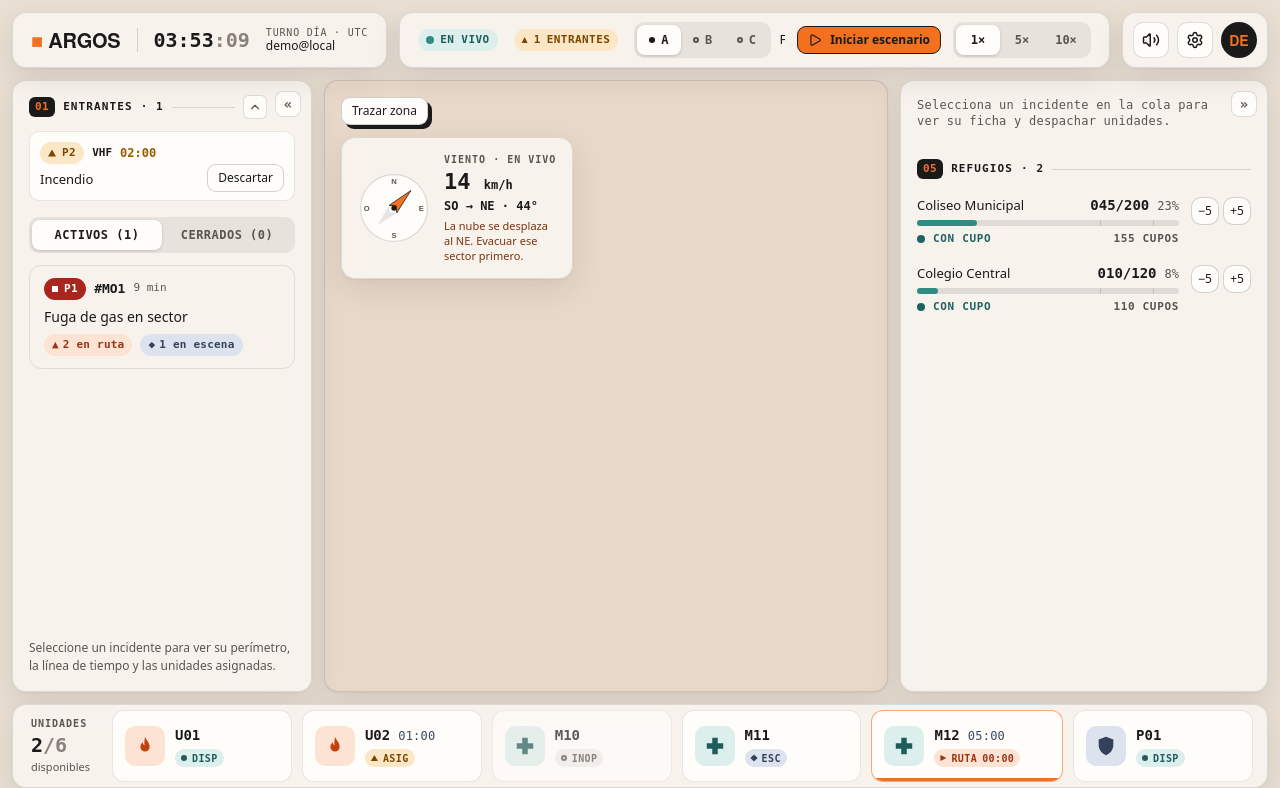
Test: App: tutorial guiado › desde Ajustes → Ayuda → «Ver tutorial» cierra los ajustes y empieza el recorrido
Expected: the header named "Barra de estado" is shown, [12,12,1268,68]
Click the button named "Ajustes" at {"x": 1195, "y": 40}, box [1177,22,1213,58]
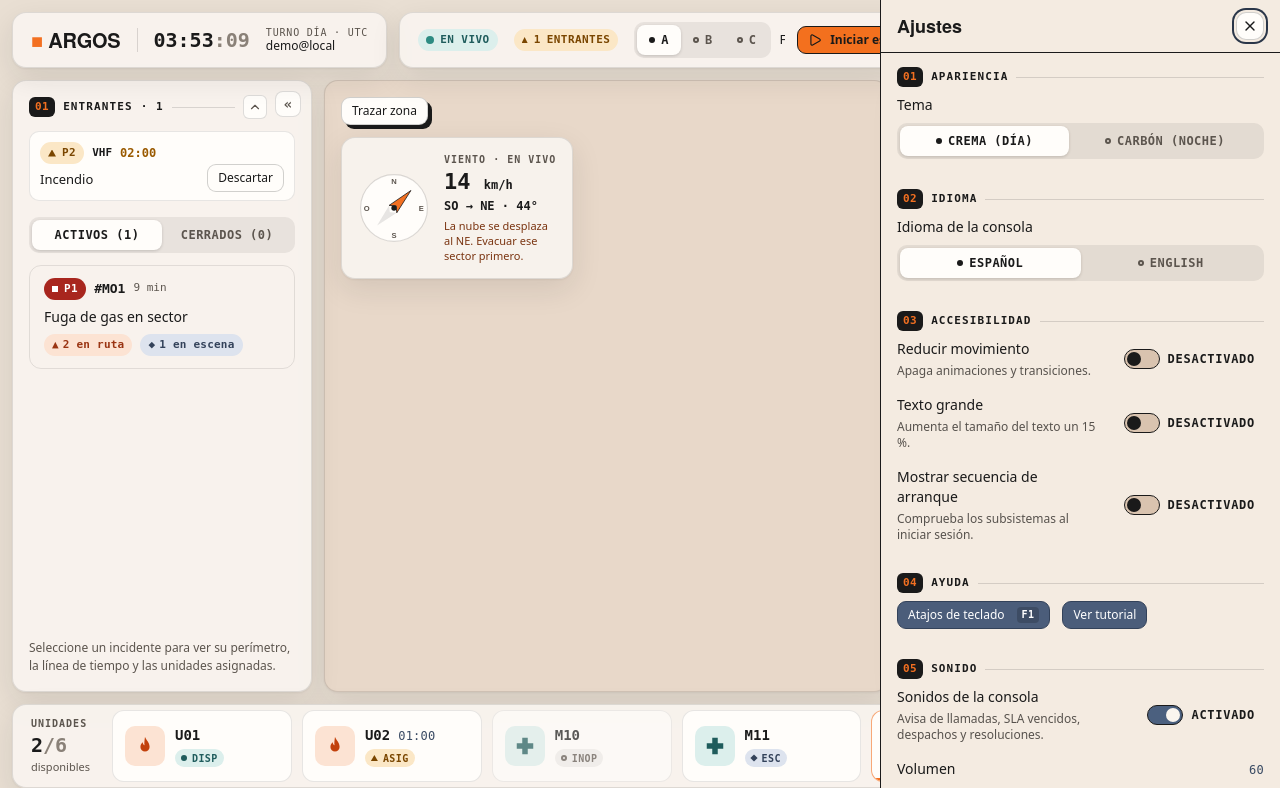
Click the button "Ver tutorial" at {"x": 1105, "y": 615}, box [1062,601,1147,629]
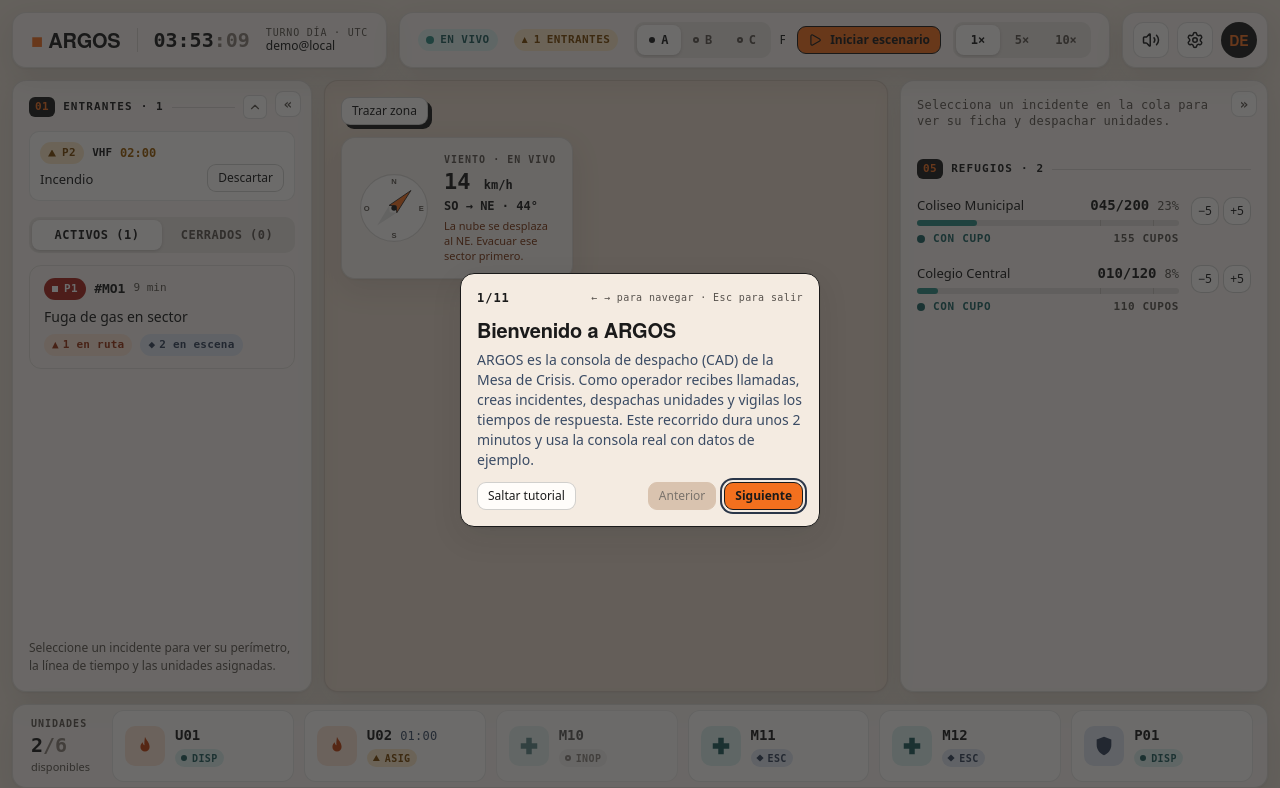
Result: the heading "Ajustes" is gone
